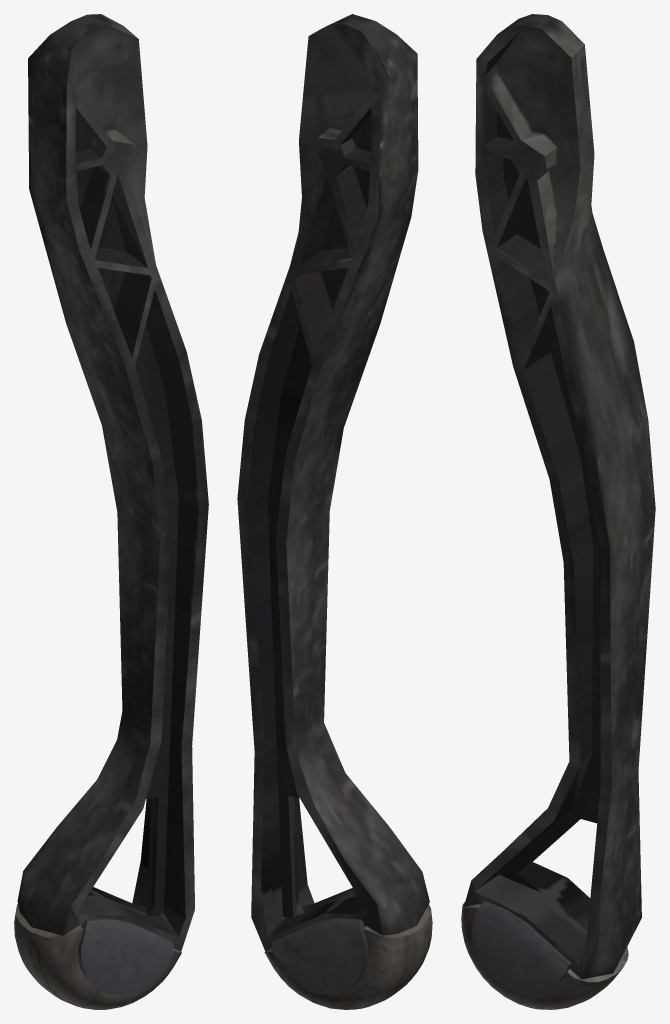
File: lleg.dae
3 renders of one model, left to right at view 1: azimuth 30°, elevation 25°; view 2: azimuth 150°, elevation 25°; view 3: azimuth 330°, elevation 25°, orthographic.
Parts seen in each view (by area): view 1: Lleg.001, Lleg.002, Lleg.003; view 2: Lleg.001, Lleg.004, Lleg.003; view 3: Lleg.001, Lleg.002, Lleg.003.
Boxes of the visible parts, x1,y1,x2,y2 form: Lleg.001: [17, 14, 208, 950]; Lleg.002: [78, 918, 173, 994]; Lleg.003: [14, 904, 181, 1009]; Lleg.001: [237, 14, 429, 951]; Lleg.004: [272, 918, 368, 995]; Lleg.003: [264, 904, 432, 1009]; Lleg.001: [464, 14, 655, 979]; Lleg.002: [471, 901, 571, 994]; Lleg.003: [461, 902, 628, 1009].
Bounding box in the file's own units: 0.0726 × 0.046 × 0.4228.
1 material, 1 textured.
